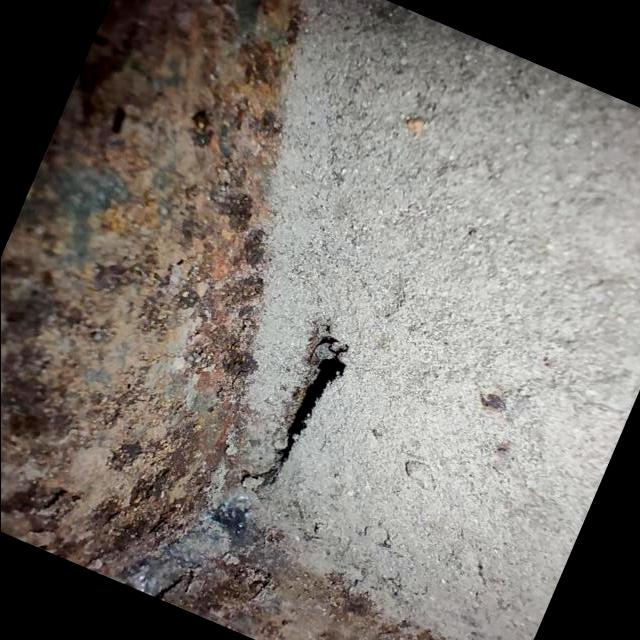defect: (233, 329, 350, 491)
